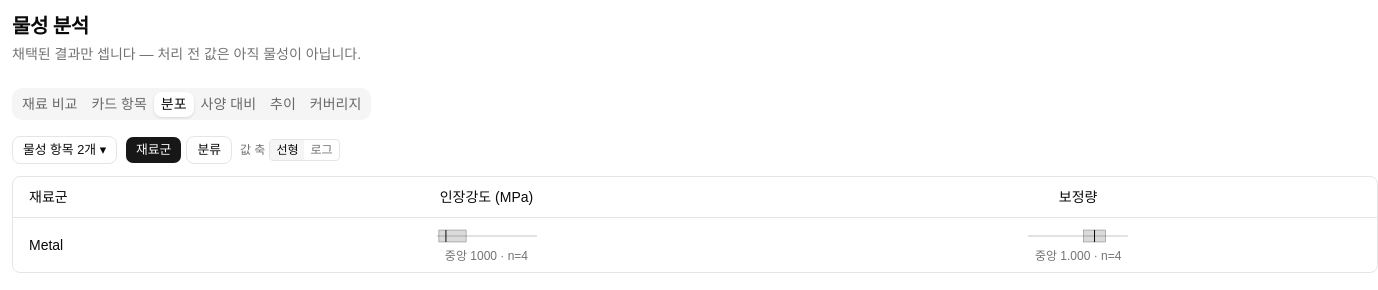
Test: 분포 › 값 축을 로그로 바꾸면 상자 자리가 로그로 잡히고, 0 이하 값이 있는 열은 선형이라고 적는다
This screenshot has width=1378, height=290.
expect the text "Metal" is shown: met, box top-left (13, 217), bottom-right (190, 272)
Click the button "로그" at (322, 150), box top-left (304, 140), bottom-right (339, 160)
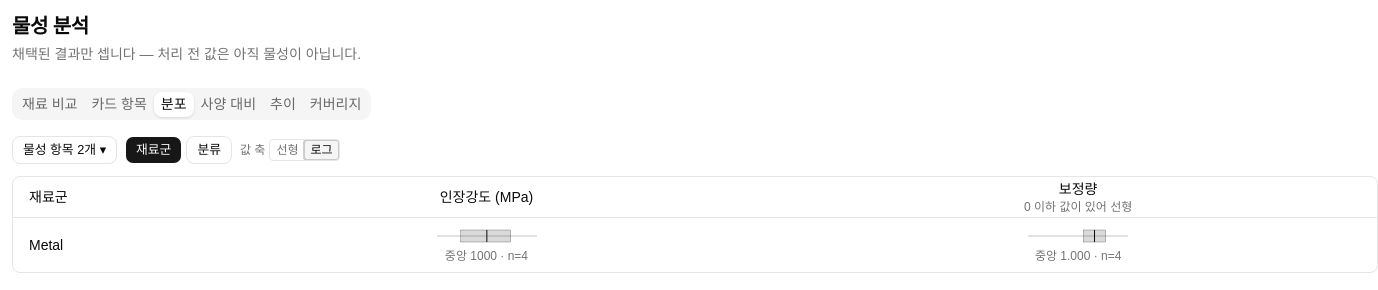
expect the text "0 이하 값이 있어 선형" is shown: met, box top-left (1024, 200), bottom-right (1132, 214)
